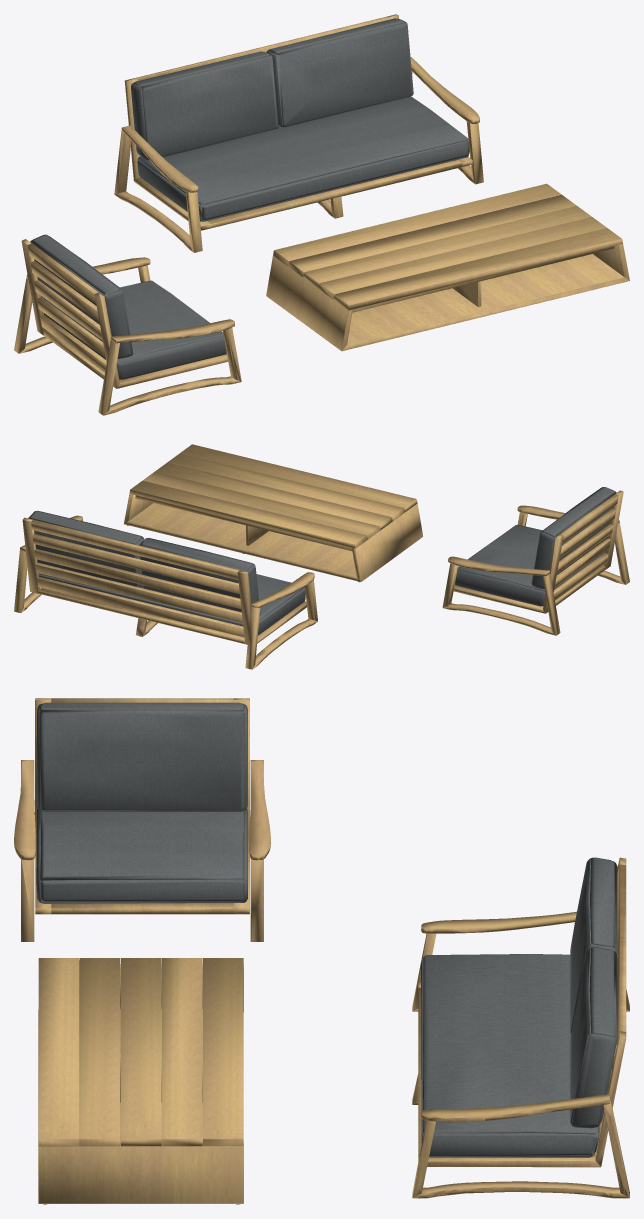
The model's file is mix_patio.glb.
3 views of the same model, one above another, from view 1: azimuth 30°, elevation 25°; view 2: azimuth 150°, elevation 25°; view 3: azimuth 270°, elevation 25° (orthographic). The views are drawn at different scales.
Parts seen in each view (by area): view 1: Wooden_Table_1, Pillow3_1; view 2: Wooden_Table_1, Pillow3_1; view 3: Pillow3_1, Wooden_Table_1.
Part boxes in pixels (x1,y1,x2,y2): Wooden_Table_1: (14,14,629,415); Pillow3_1: (30,18,469,379); Wooden_Table_1: (14,444,629,669); Pillow3_1: (28,487,616,635); Pillow3_1: (36,702,617,1157); Wooden_Table_1: (14,698,629,1204).
Size of the model in its own units: 3.7 by 0.7783 by 2.72.
Materials: 2 (2 with a texture image).
